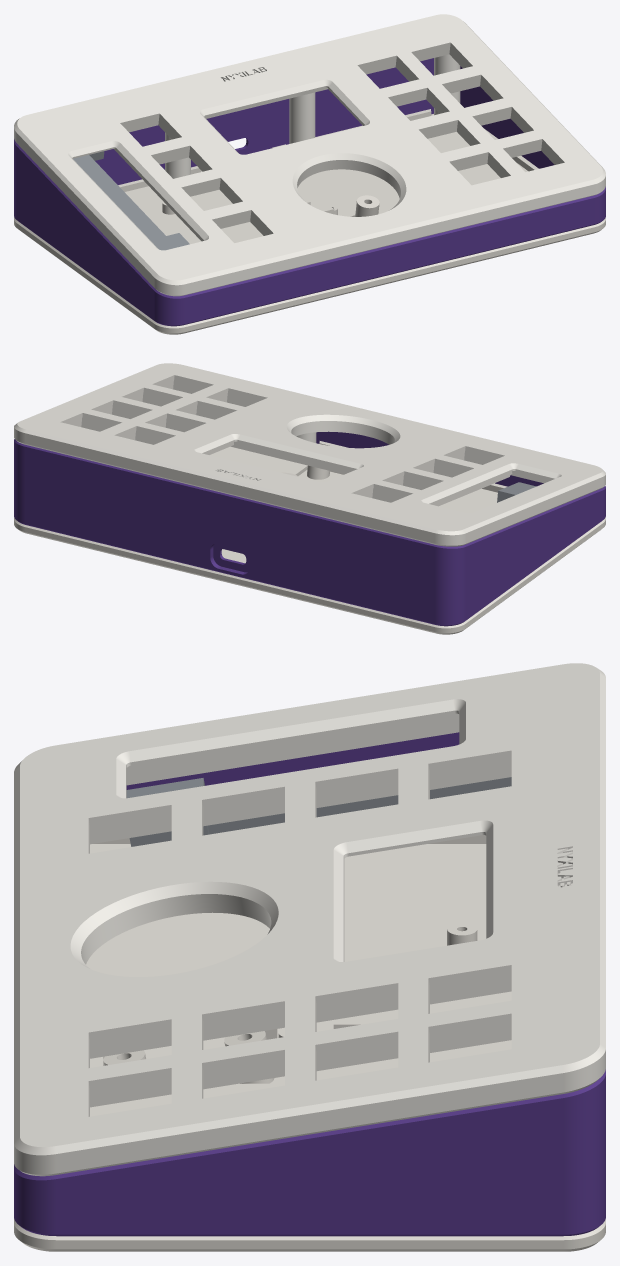
File: macropad_case.glb
The picture shows the model from 3 angles, top to bottom: view 1: azimuth 30°, elevation 25°; view 2: azimuth 150°, elevation 25°; view 3: azimuth 270°, elevation 25°; orthographic projection. The views are drawn at different scales.
Visible parts, largest first — view 1: top_plate, frame, base, bar_spine; view 2: top_plate, frame, base, bar_spine; view 3: top_plate, frame, base, bar_spine.
Boxes of the visible parts, bbox=[...] form: top_plate: bbox=[14, 14, 605, 296]; frame: bbox=[14, 58, 605, 326]; base: bbox=[14, 109, 605, 334]; bar_spine: bbox=[73, 151, 189, 250]; top_plate: bbox=[14, 363, 605, 546]; frame: bbox=[14, 431, 605, 626]; base: bbox=[14, 441, 605, 634]; bar_spine: bbox=[497, 482, 536, 502]; top_plate: bbox=[14, 663, 605, 1176]; frame: bbox=[14, 732, 605, 1236]; base: bbox=[14, 835, 605, 1251]; bar_spine: bbox=[126, 777, 511, 846].
Bounding box in the file's own units: 0.159 × 0.0351 × 0.098.
